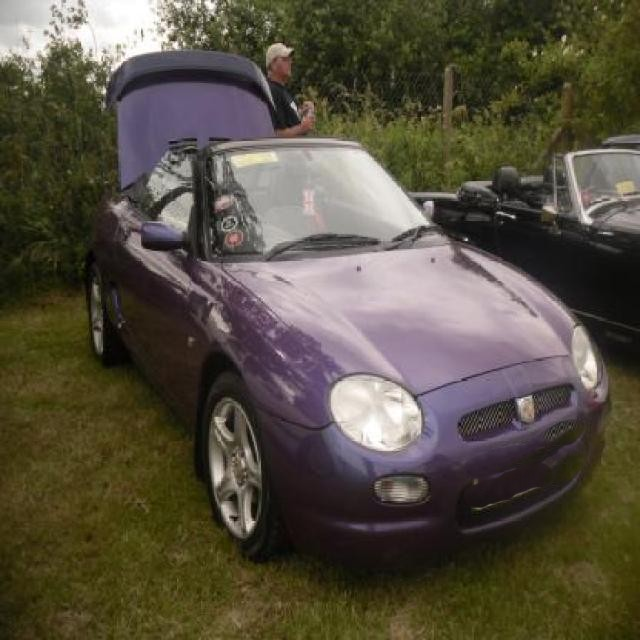car: (81, 50, 613, 568)
